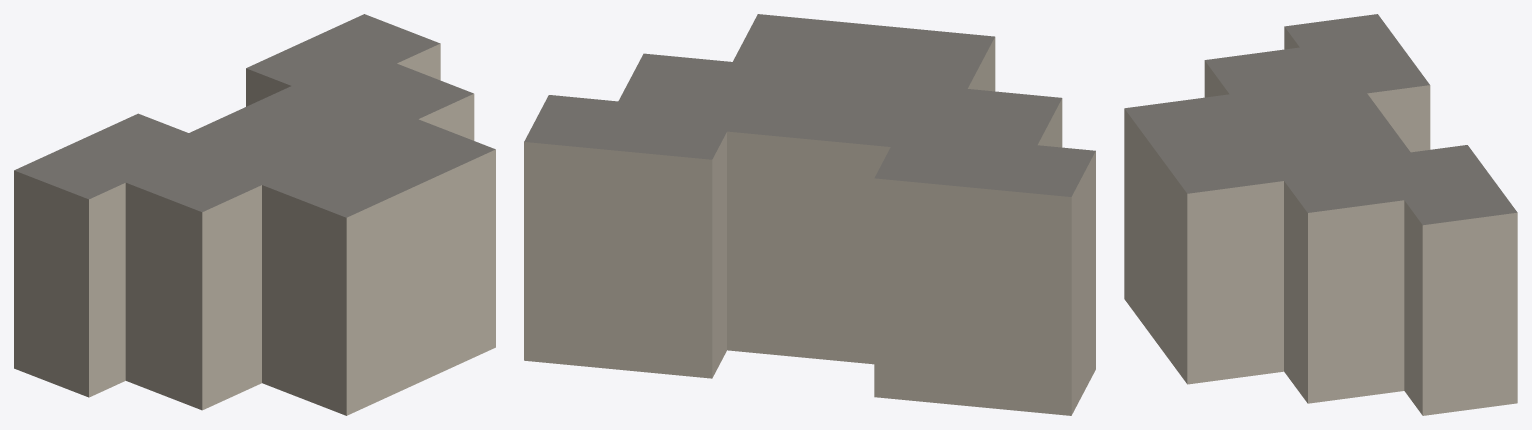
The picture shows the model from 3 angles, left to right: view 1: azimuth 30°, elevation 25°; view 2: azimuth 150°, elevation 25°; view 3: azimuth 270°, elevation 25°; orthographic projection. The views are drawn at different scales.
Visible parts, largest first — view 1: HP-w293512892; view 2: HP-w293512892; view 3: HP-w293512892.
Boxes of the visible parts, box(x1,y1,x2,y2) form: HP-w293512892: box(14, 14, 495, 415); HP-w293512892: box(524, 14, 1095, 415); HP-w293512892: box(1124, 14, 1517, 415).
Size of the model in its own units: 42.76 by 18 by 33.65.
